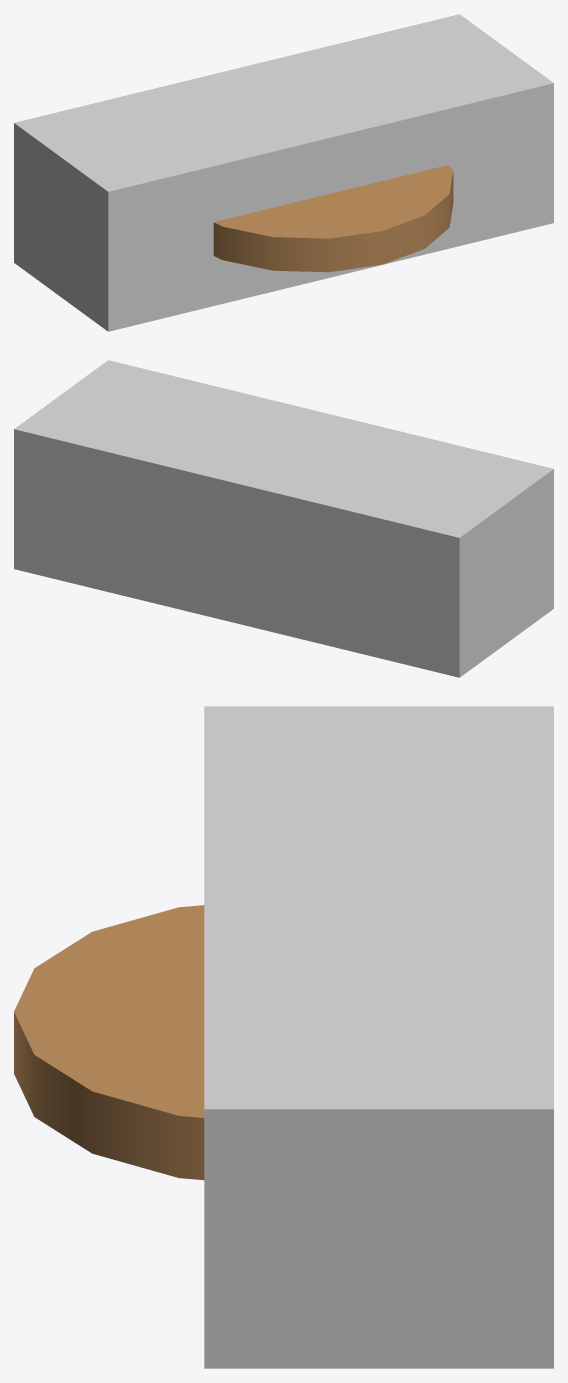
File: picture-light_commercial.glb
The picture shows the model from 3 angles, top to bottom: view 1: azimuth 30°, elevation 25°; view 2: azimuth 150°, elevation 25°; view 3: azimuth 270°, elevation 25°; orthographic projection. The views are drawn at different scales.
Visible parts, largest first — view 1: COL_picture-light, MESH_Shade; view 2: COL_picture-light; view 3: COL_picture-light, MESH_Shade.
Part boxes in pixels (left/top/right/bottom): COL_picture-light: left=14, top=14, right=553, bottom=331; MESH_Shade: left=213, top=165, right=453, bottom=272; COL_picture-light: left=14, top=360, right=553, bottom=677; COL_picture-light: left=204, top=706, right=553, bottom=1368; MESH_Shade: left=14, top=905, right=204, bottom=1180.
Size of the model in its own units: 0.6 by 0.18 by 0.3396.
